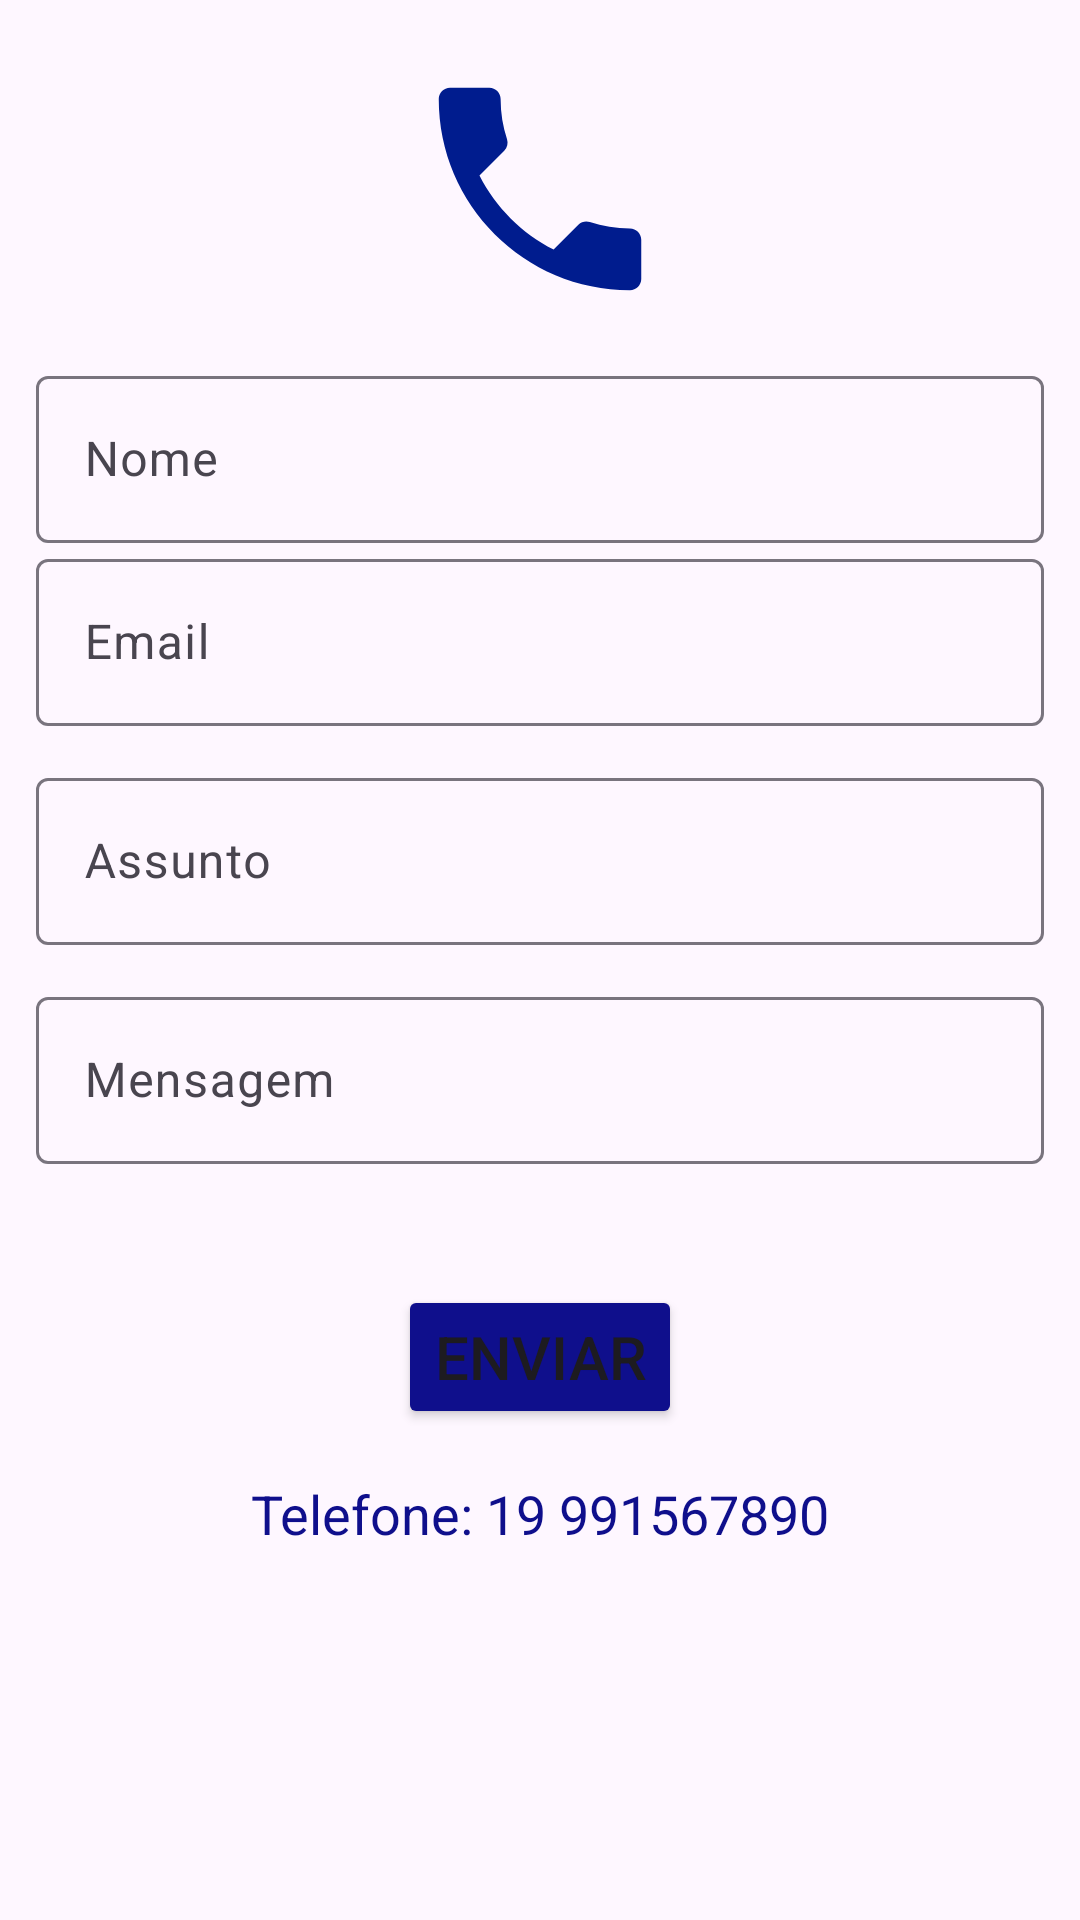

Locate icon controls on the screen. Image size 1080px x 1920px, boxes as (x1, y1, x2, y2).
telefone ct: (438, 87, 642, 291)
